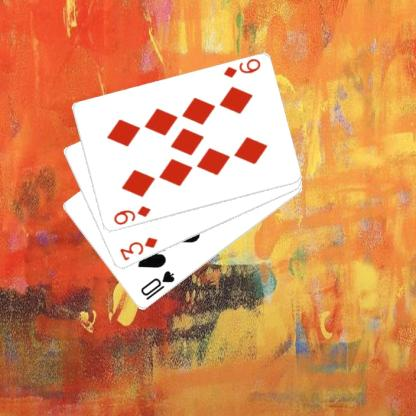10S: (138, 268, 176, 302)
3D: (117, 235, 159, 262)
9D: (220, 57, 262, 80), (110, 204, 152, 226)
